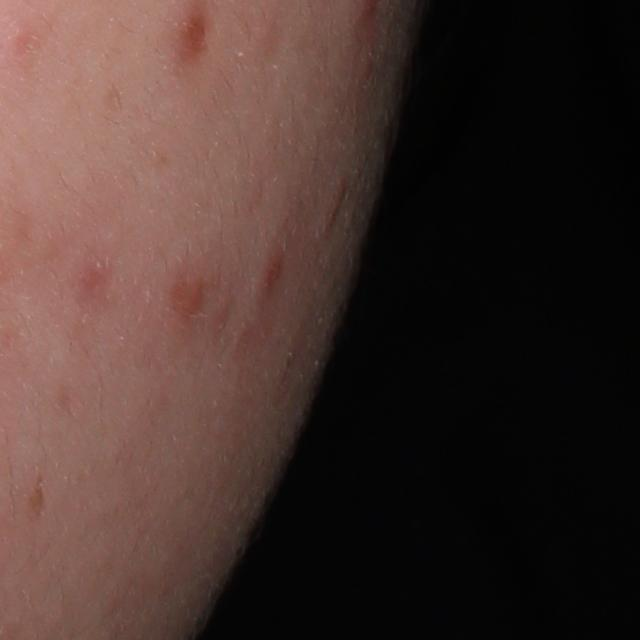papule: (164, 269, 213, 325), (251, 252, 285, 300)
